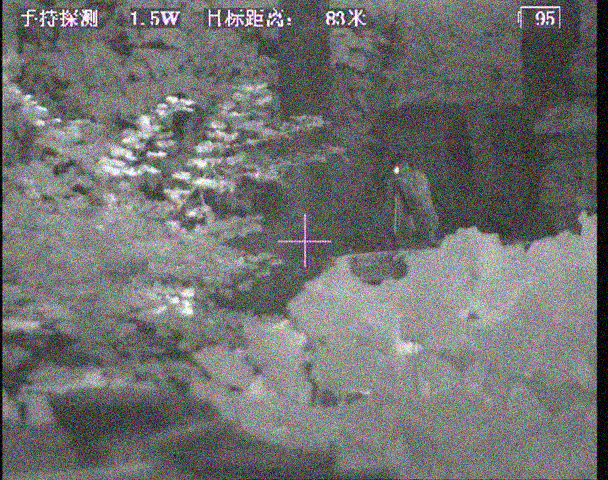my: (391, 165, 401, 176)
